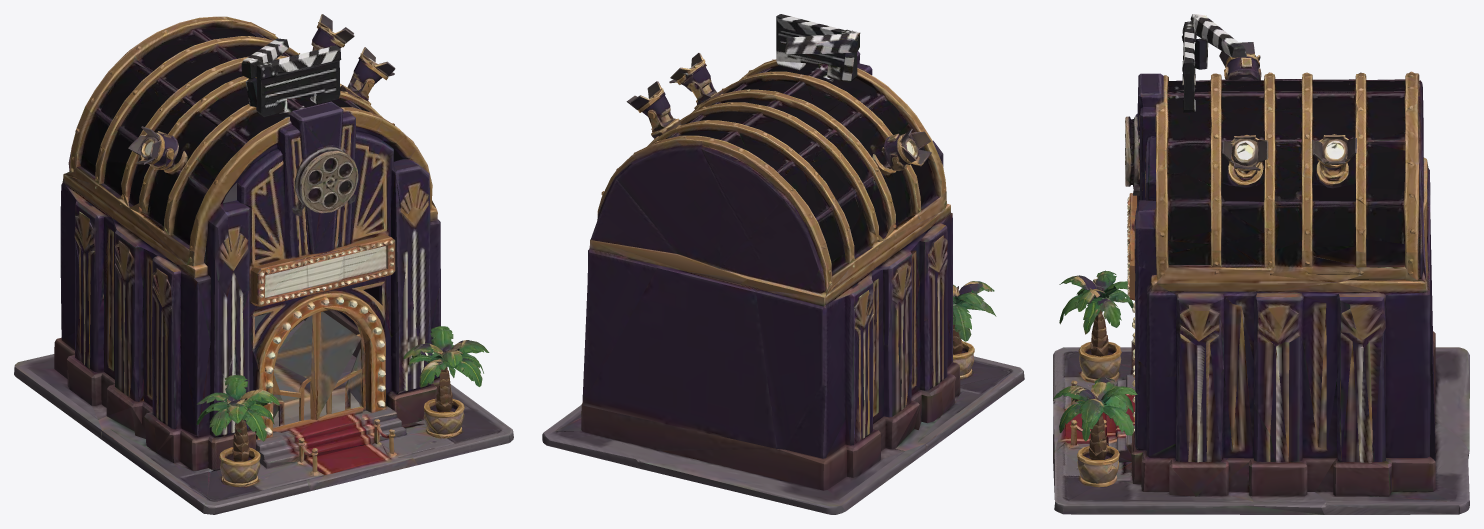
File: bld-film.glb
3 views of the same model, side by side, from view 1: azimuth 30°, elevation 25°; view 2: azimuth 150°, elevation 25°; view 3: azimuth 270°, elevation 25° (orthographic). The views are drawn at different scales.
Size of the model in its own units: 1.64 by 1.9 by 1.8.
Materials: 1 (1 with a texture image).
